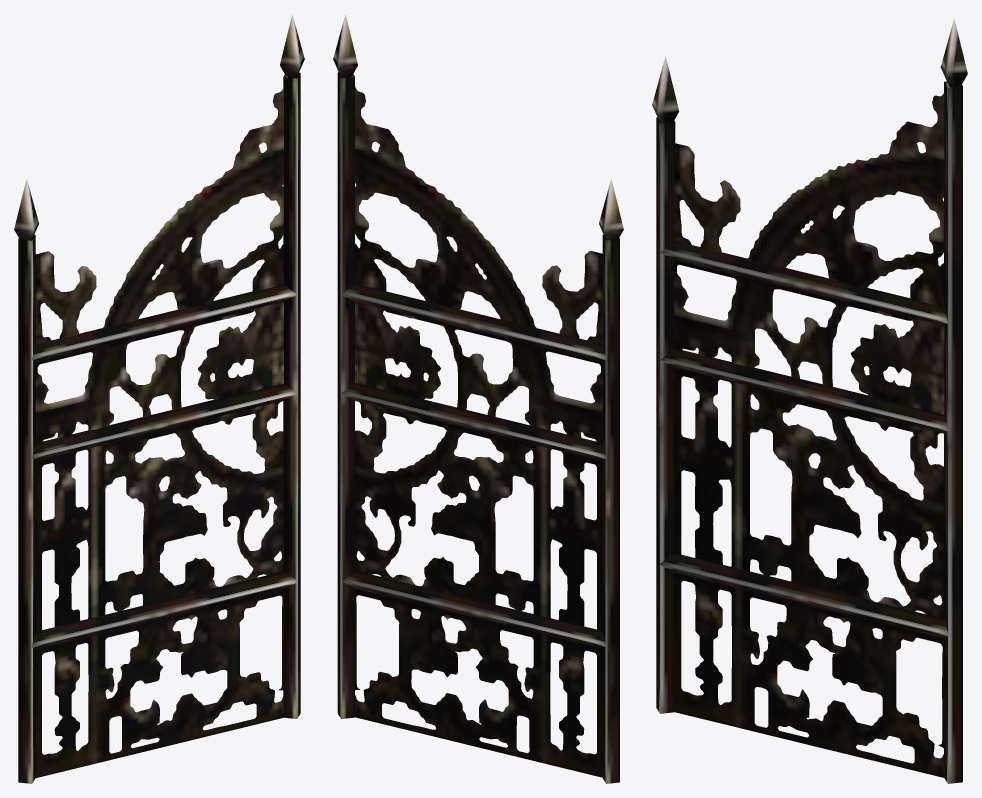
3 renders of one model, left to right at view 1: azimuth 30°, elevation 25°; view 2: azimuth 150°, elevation 25°; view 3: azimuth 330°, elevation 25°, orthographic. The views are drawn at different scales.
Parts seen in each view (by area): view 1: SteelDoor01; view 2: SteelDoor01; view 3: SteelDoor01.
Boxes of the visible parts, left/top/right/bottom form: SteelDoor01: left=14, top=14, right=304, bottom=783; SteelDoor01: left=333, top=14, right=623, bottom=783; SteelDoor01: left=652, top=19, right=967, bottom=783.
Size of the model in its own units: 154 by 356 by 13.32.
